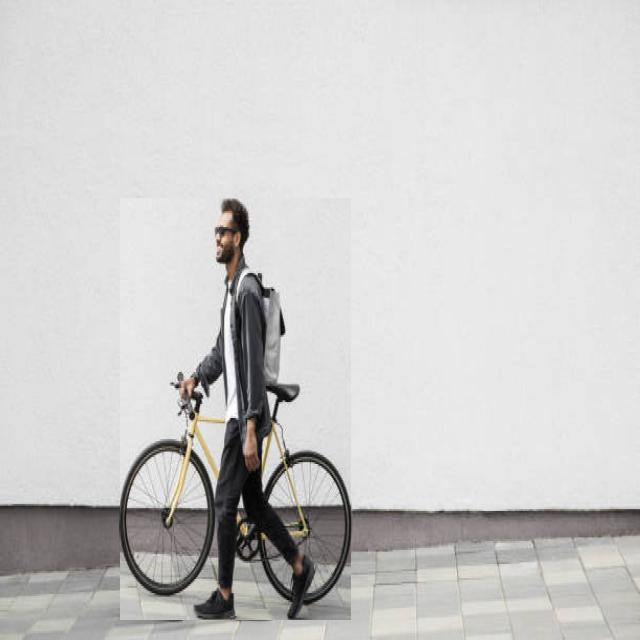bicycle: (120, 199, 351, 620)
